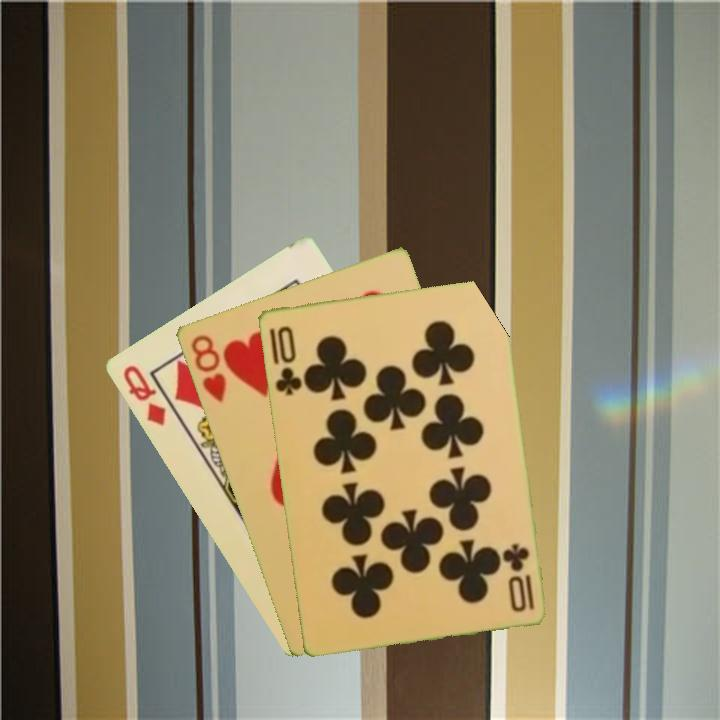10c: (500, 539, 537, 615), (271, 322, 304, 398)
8h: (187, 331, 229, 406)
Qd: (119, 361, 169, 429)
